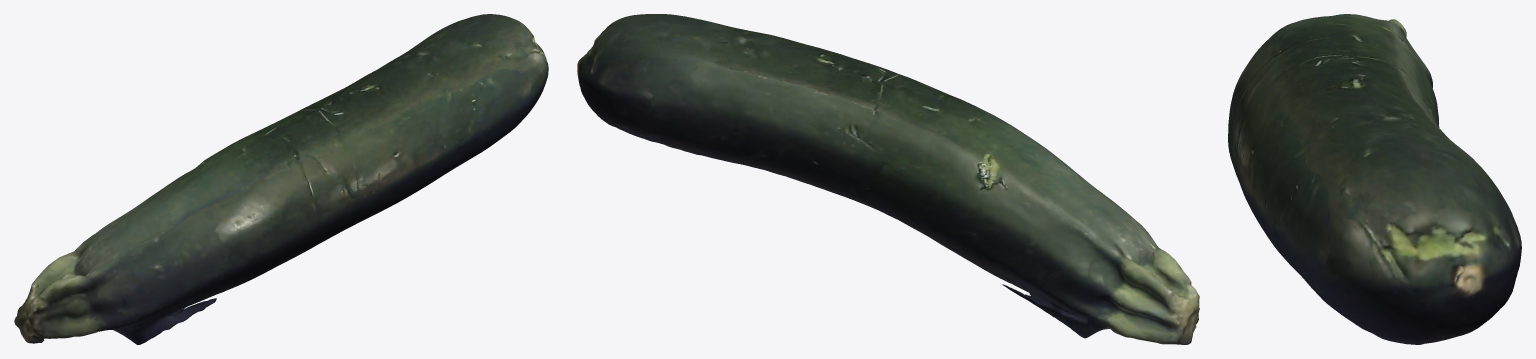
File: Zucchini_low.fbx
3 views of the same model, side by side, from view 1: azimuth 30°, elevation 25°; view 2: azimuth 150°, elevation 25°; view 3: azimuth 270°, elevation 25° (orthographic). The views are drawn at different scales.
Parts seen in each view (by area): view 1: Zucchini_simple_tex; view 2: Zucchini_simple_tex; view 3: Zucchini_simple_tex.
Boxes of the visible parts, x1,y1,x2,y2 form: Zucchini_simple_tex: (14,14,548,344); Zucchini_simple_tex: (577,14,1199,344); Zucchini_simple_tex: (1228,14,1521,344).
Bounding box in the file's own units: 22.39 × 8.31 × 6.49.
Materials: 1 (1 with a texture image).
